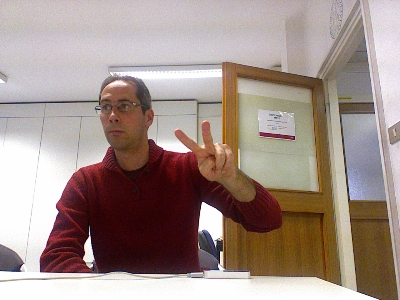剪刀: (173, 120, 237, 183)
